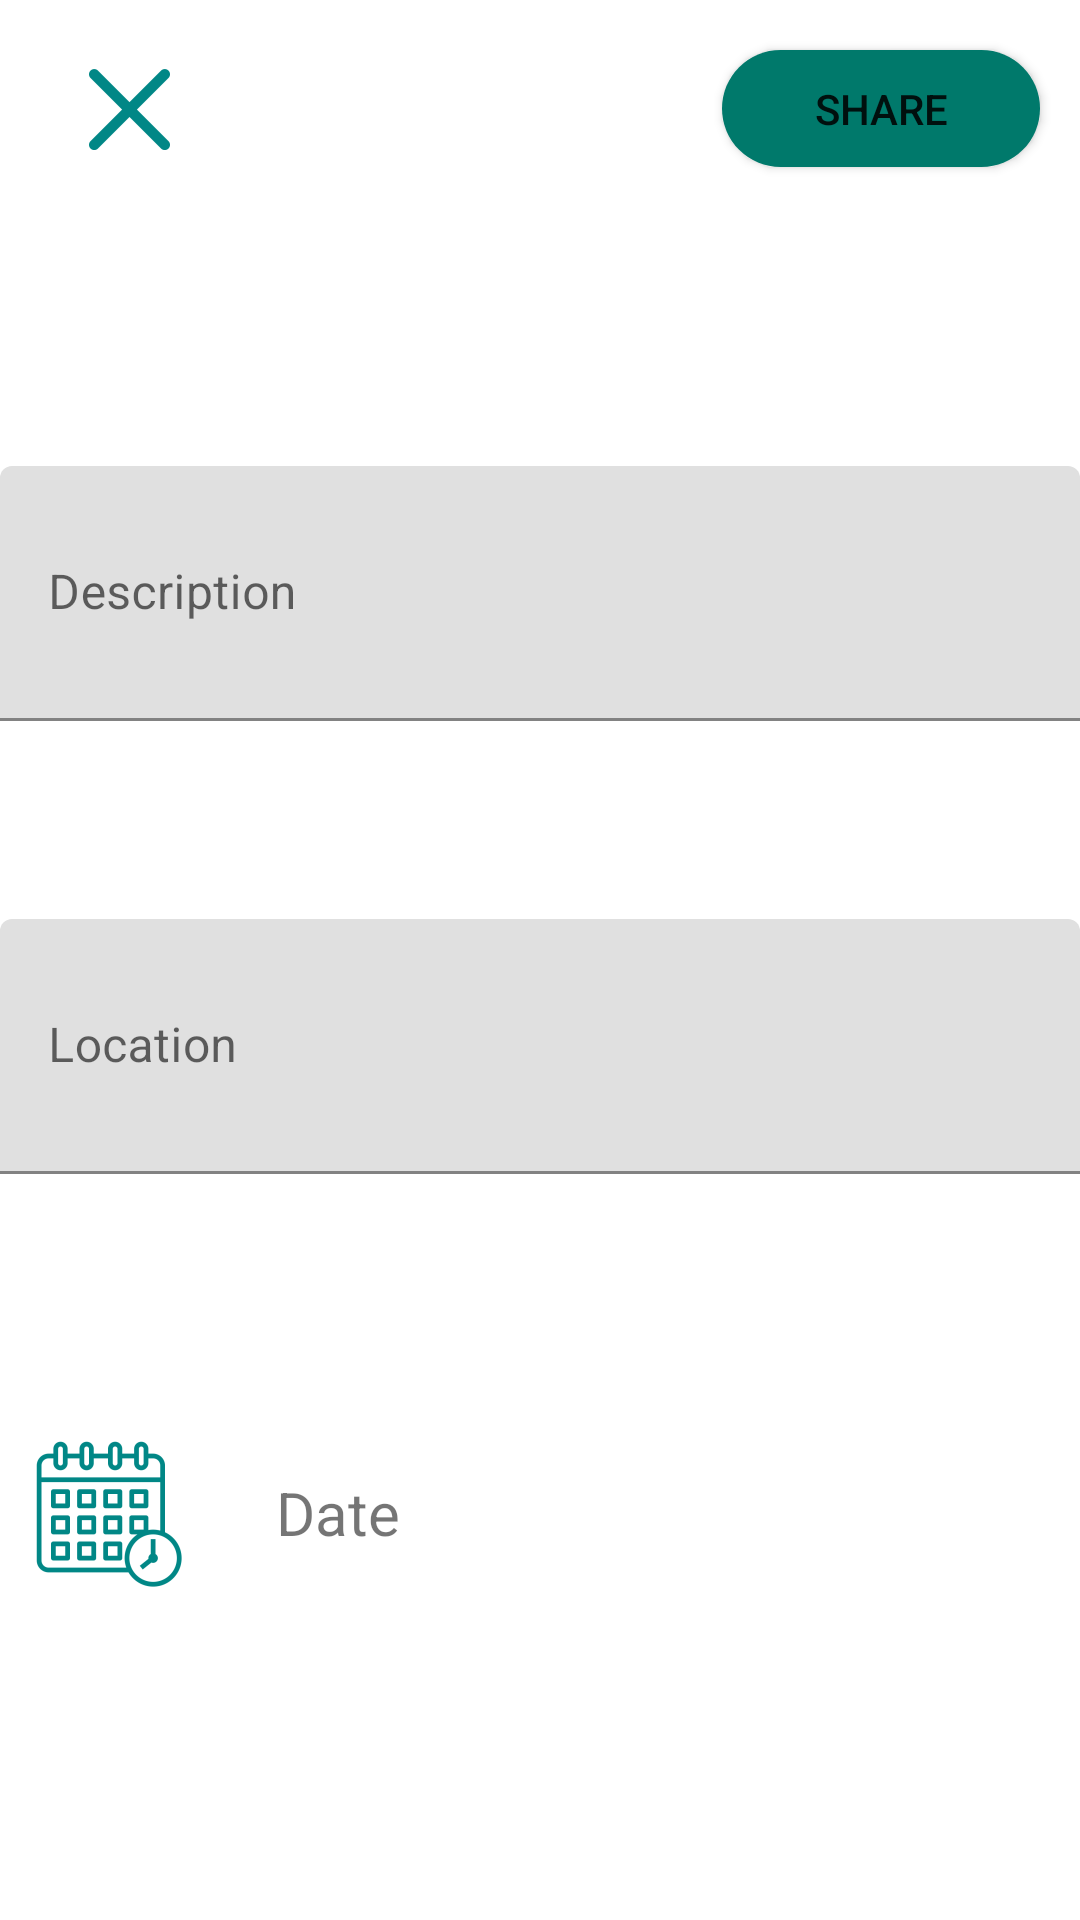

Locate icon controls on the screen. Image size 1080×1920, boxes as (x1, y1, x2, y2).
calendar: (36, 1441, 182, 1587)
close: (89, 69, 170, 150)
